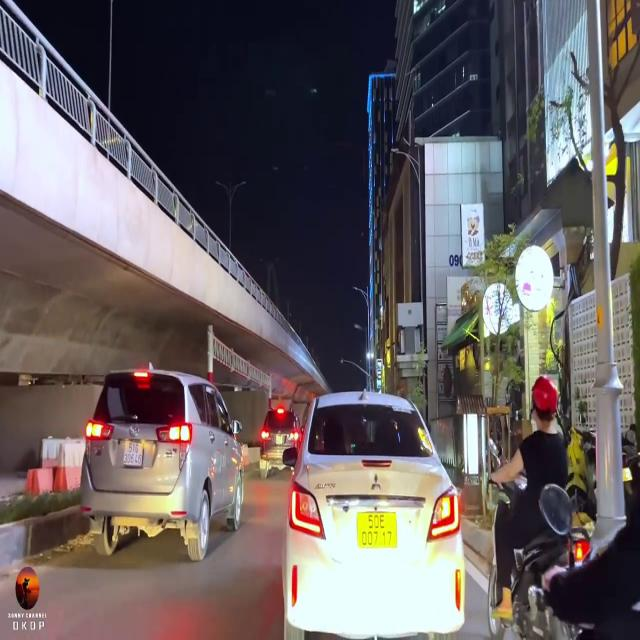bien_trang: (120, 438, 144, 469)
bien_vang: (355, 510, 400, 552)
